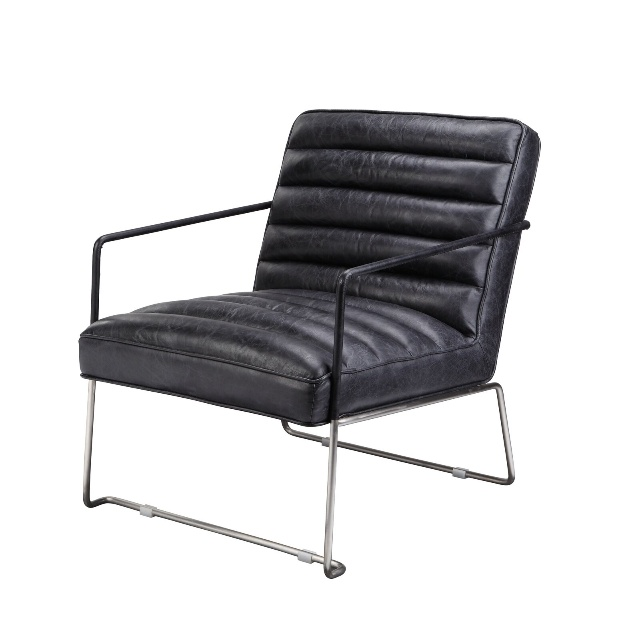obstacle: (79, 110, 539, 578)
